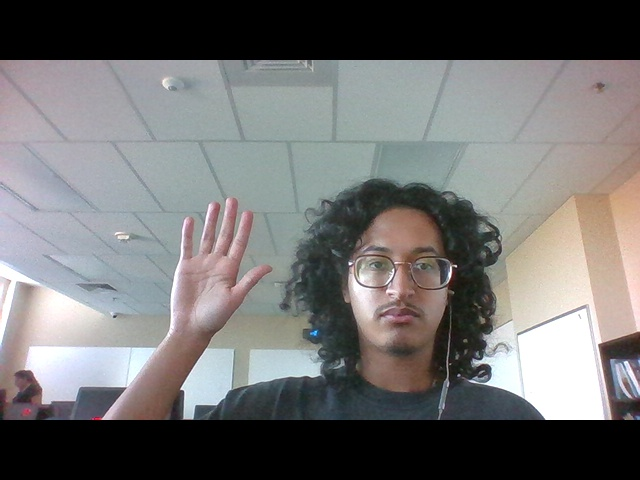hello: (157, 192, 277, 351)
